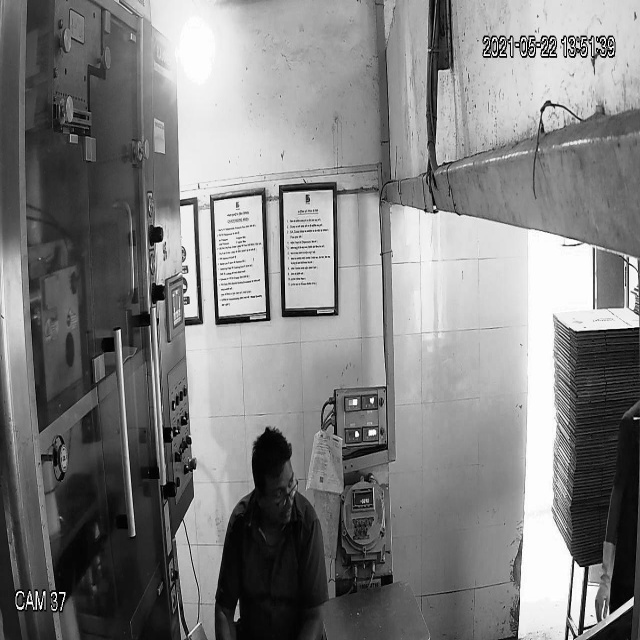Gafas: (258, 476, 302, 512)
